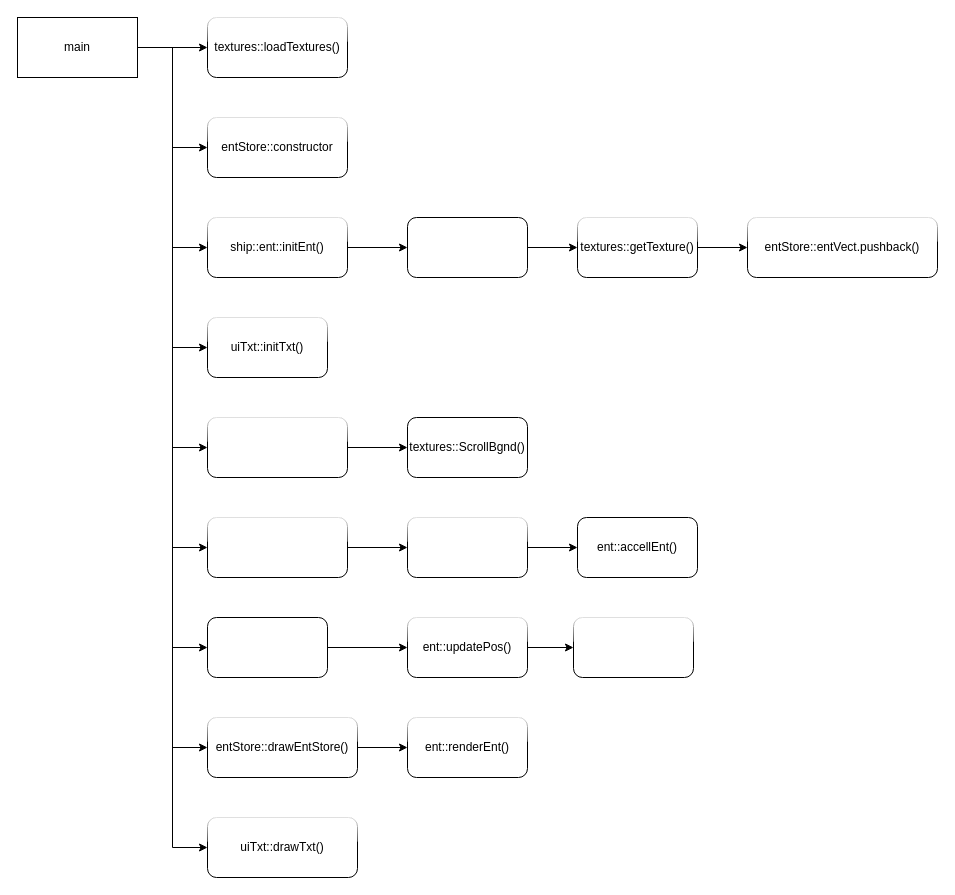
Some shapes in this 955 by 895 pixel diagram are drawn without their labels. Each missing label, with the centre of its shape:
"ent::moveEnt()" goes at (633,647).
"ent::setEntTexture()" goes at (467,247).
"ship::doShipMovement()" goes at (277,547).
"system::getPlrInput()" goes at (467,547).
"texures::drawBgnd()" goes at (277,447).
"updateAllEntsPos()" goes at (267,647).
